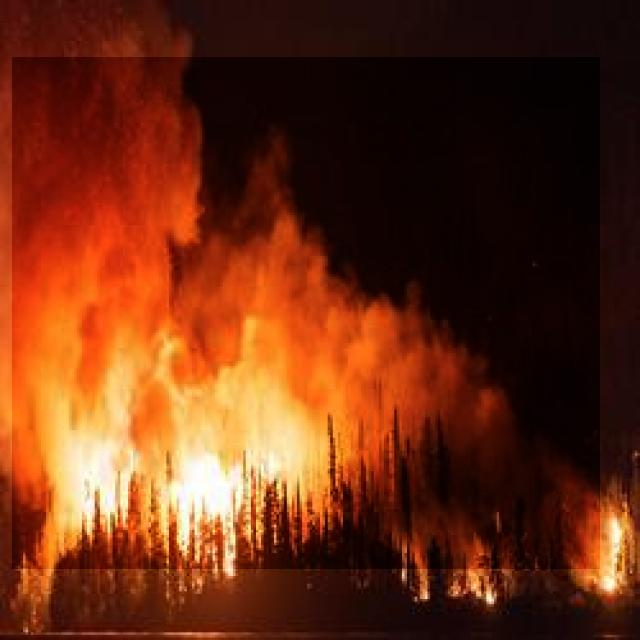Fire: (83, 430, 270, 550), (600, 518, 634, 596)
Smoke: (12, 57, 600, 569)
